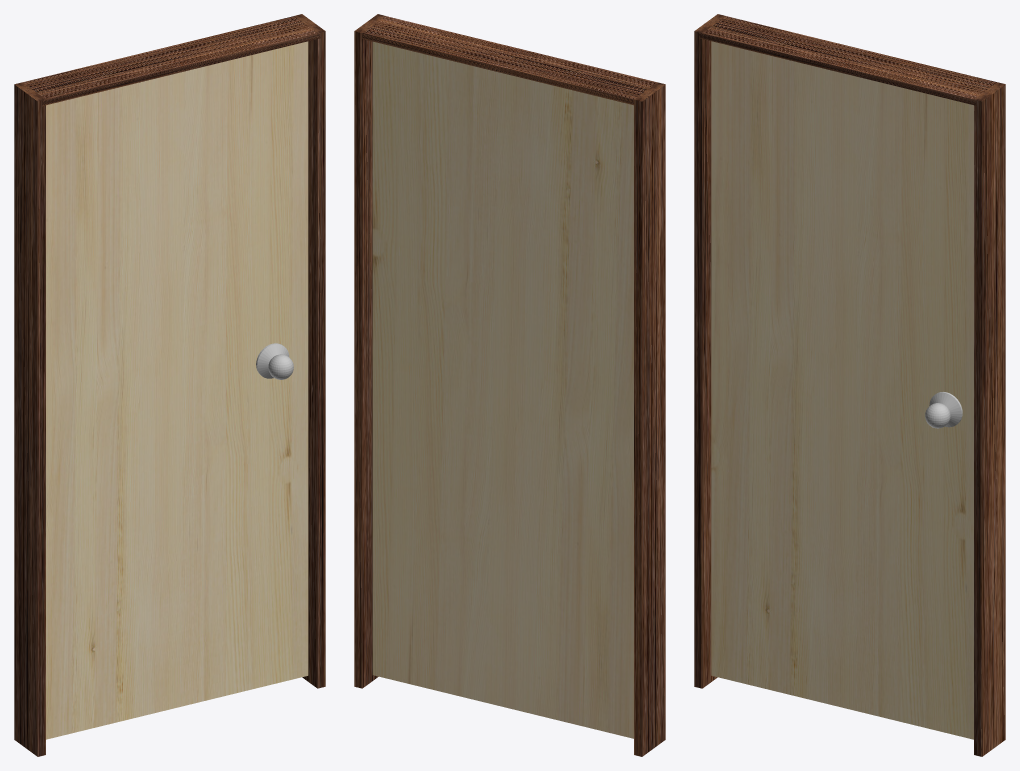
Rendered from puertaa.fbx.
3 renders of one model, left to right at view 1: azimuth 30°, elevation 25°; view 2: azimuth 150°, elevation 25°; view 3: azimuth 330°, elevation 25°, orthographic.
Visible parts, largest first — view 1: Sphere; view 2: Sphere; view 3: Sphere.
Part boxes in pixels (left/top/right/bottom): Sphere: left=14, top=14, right=325, bottom=756; Sphere: left=354, top=14, right=665, bottom=756; Sphere: left=694, top=14, right=1005, bottom=756.
Size of the model in its own units: 211 by 460 by 37.92.
5 materials, 4 textured.
